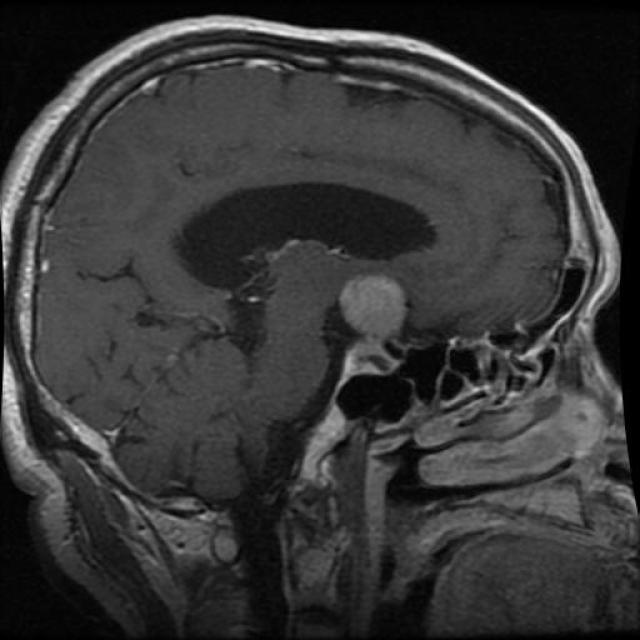pituitary: (334, 270, 420, 346)
